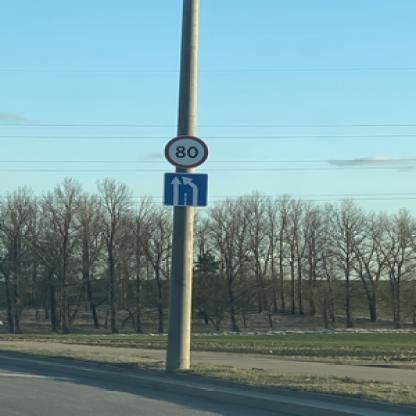speedlimit: (160, 134, 206, 168)
